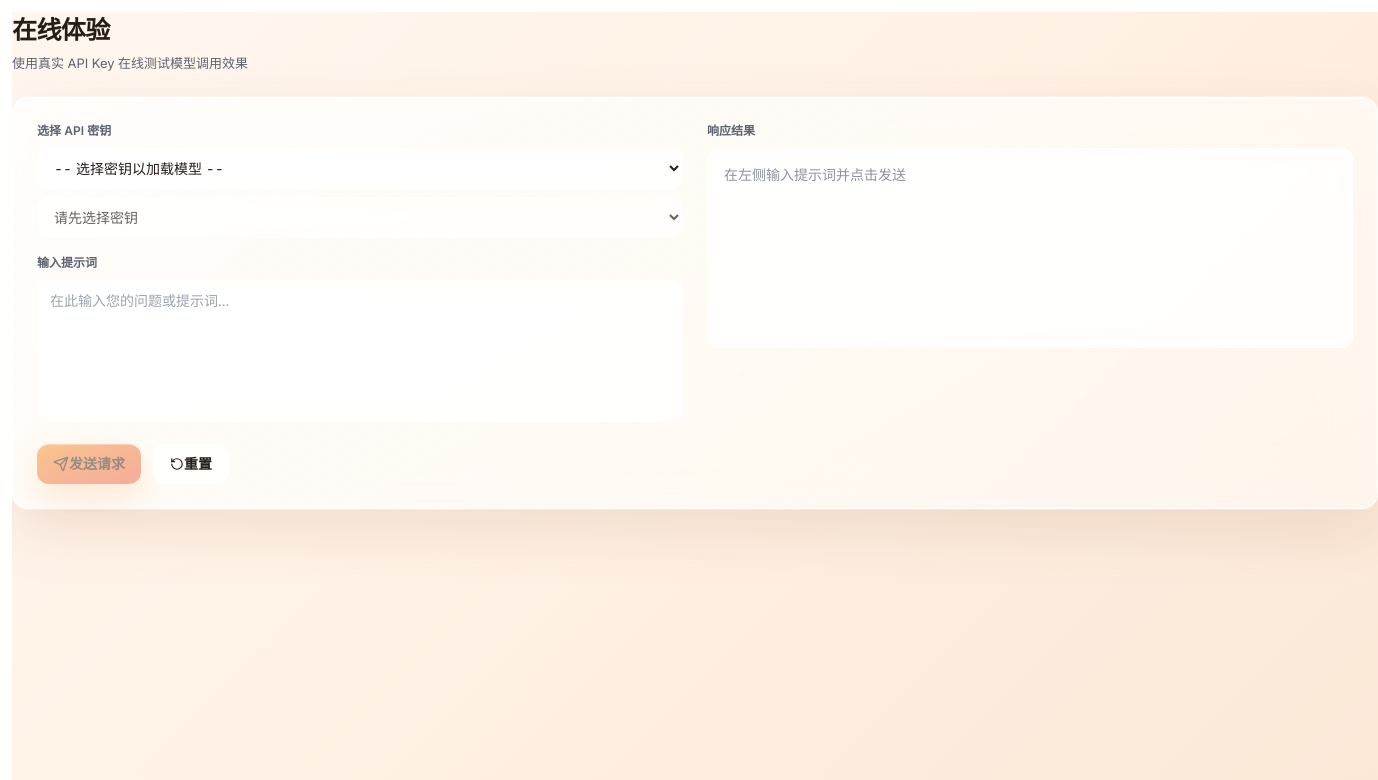
Test: Playground › shows error when gateway fetch throws network error
The image size is (1378, 780).
Select "Net Key" in the dropdown labelled "选择 API 密钥" at {"x": 360, "y": 168}, box [37,148,683,189]
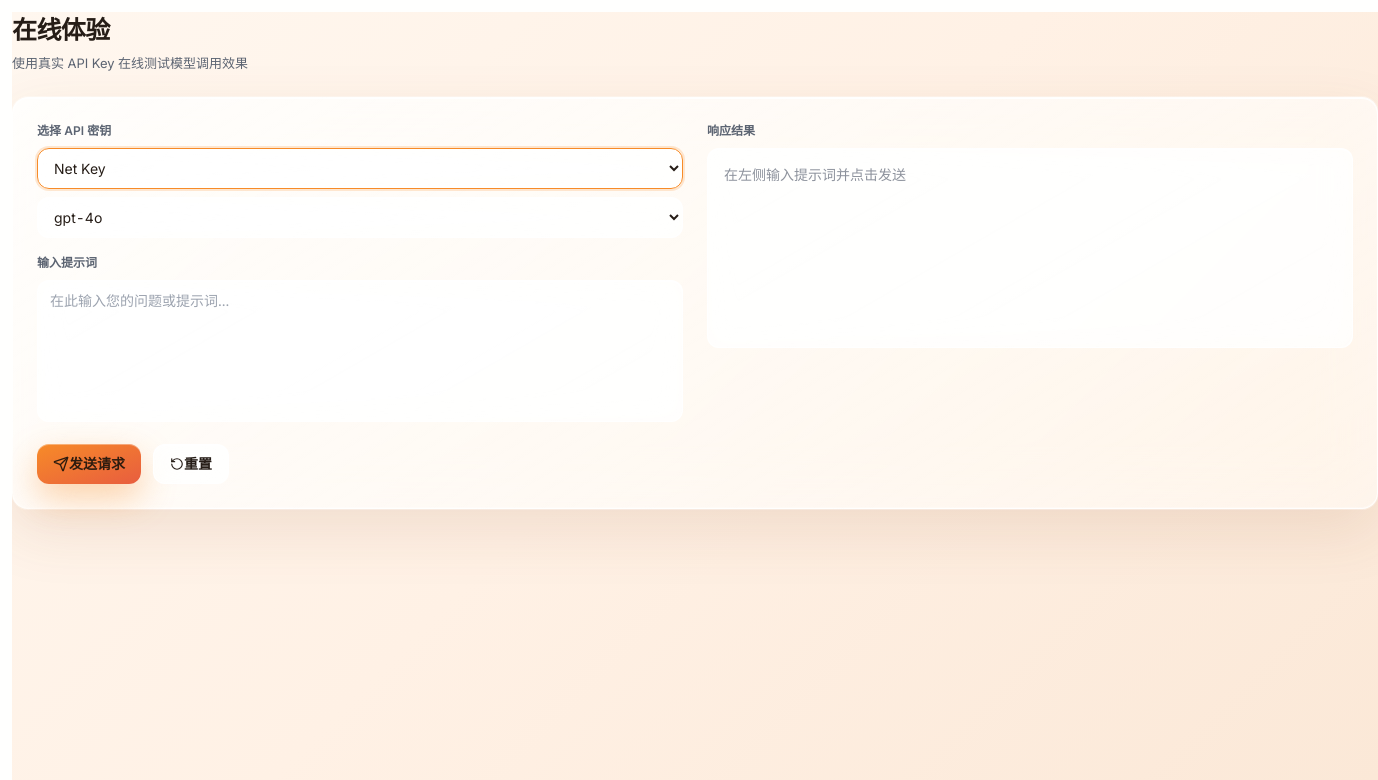
Type "test" into the text box with placeholder "在此输入您的问题或提示词...".
click(360, 351); type("test")  # box [37,280,683,422]
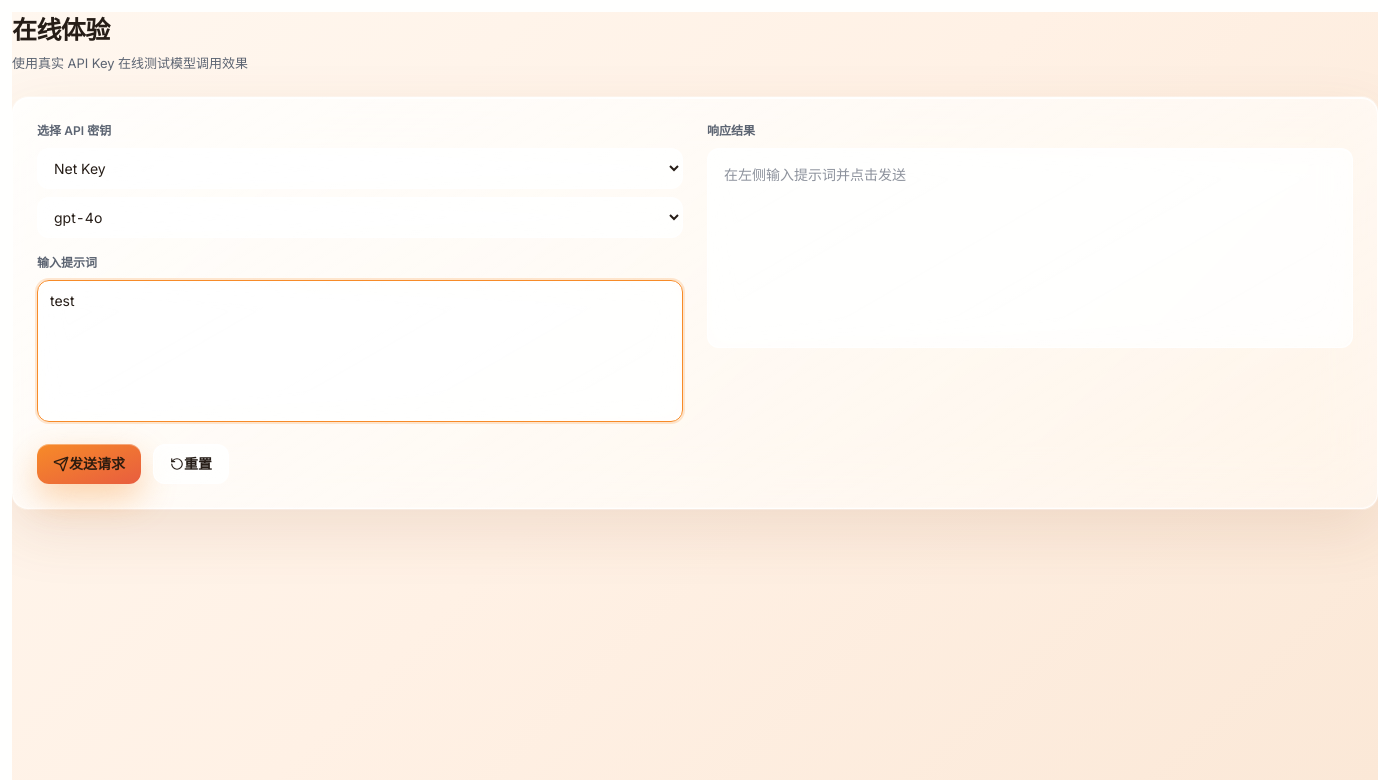
Click the button "发送请求".
click(89, 464)  # box [37,444,141,484]
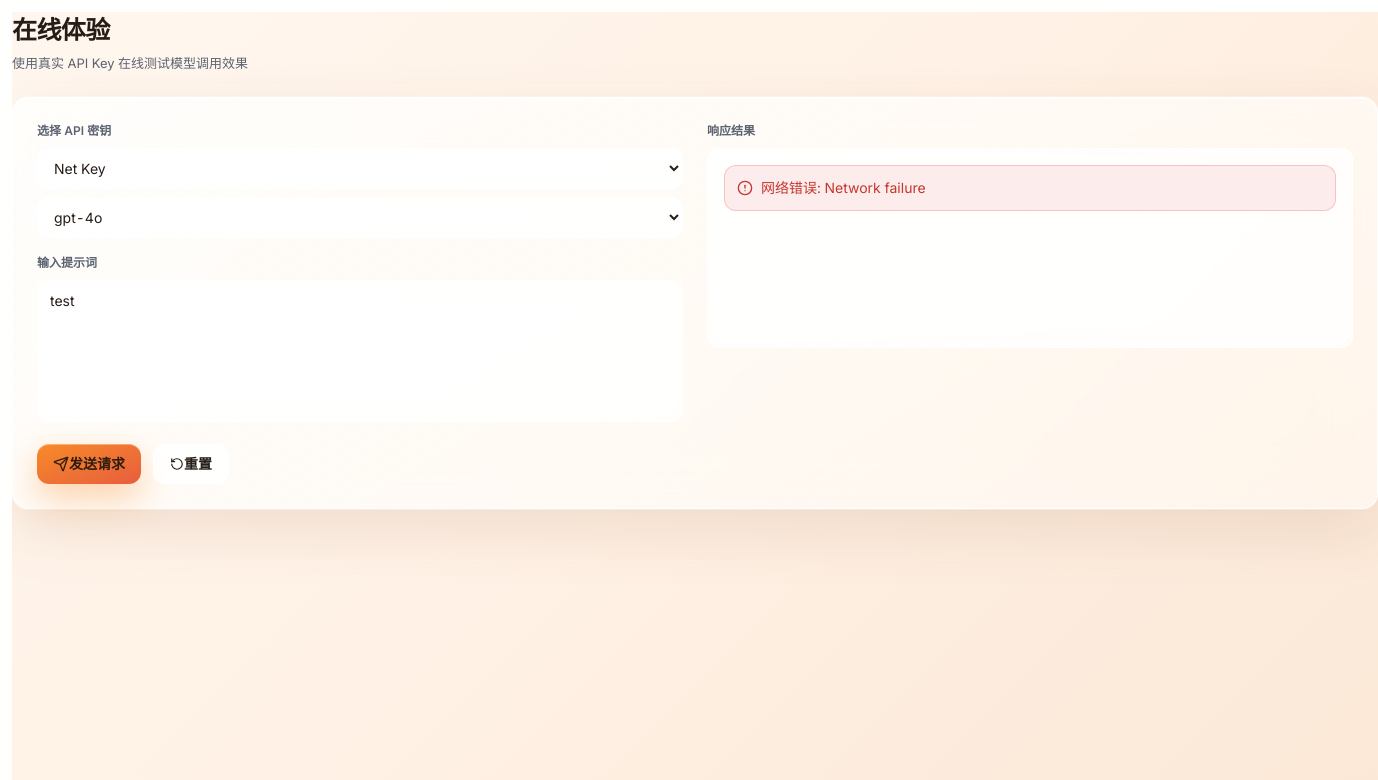
Result: the text "网络错误: Network failure" is shown at [724,165,1336,211]
